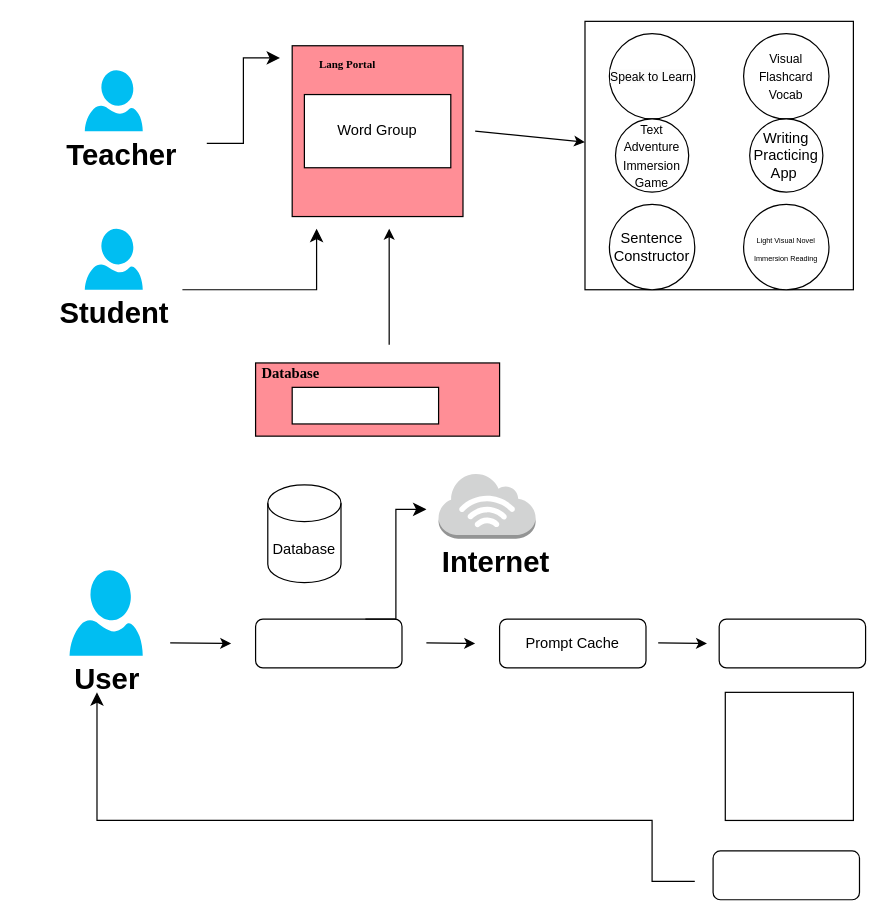
Some shapes in this 887 by 921 pixel diagram are drawn without their labels. The box of each missing label's shape, as (x1, y1, x2, y2) in pixels:
core 2000 words: (291, 386, 439, 424)
Input GuardRail: (718, 618, 866, 668)
LLM 80B Parameters: (724, 691, 853, 820)
Output GuardRail: (712, 850, 859, 900)
Retrieval-Augmented Generation (RAG): (254, 618, 402, 668)
